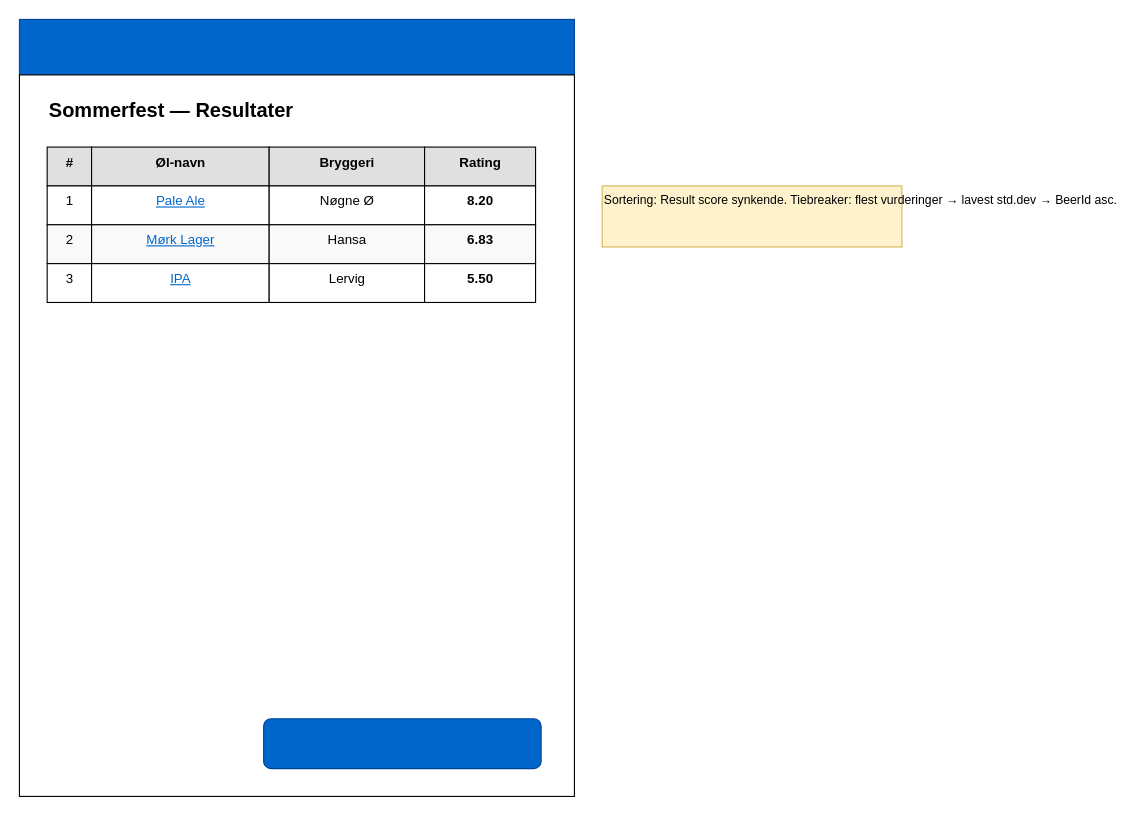
Image size: 1137x816. Some labels were removed from this diagram. Each missing label, with the centre of its shape:
"Ferdig →" belongs at (x=402, y=743).
"Tasting" belongs at (x=296, y=46).
